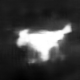plane: (15, 22, 75, 63)
